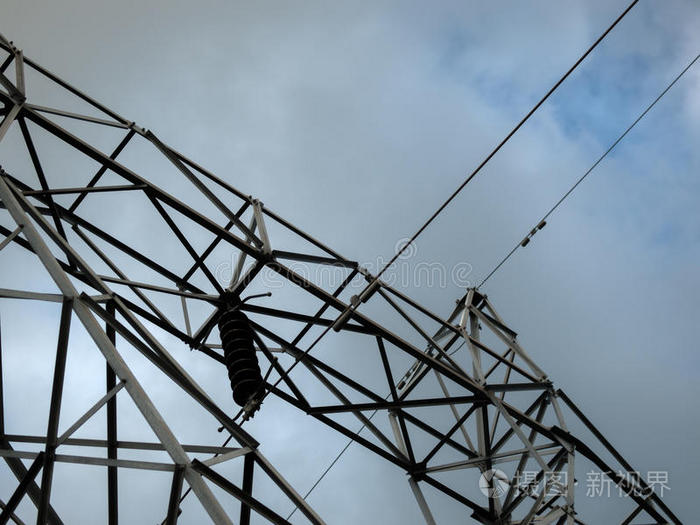insulator: (218, 308, 263, 412)
